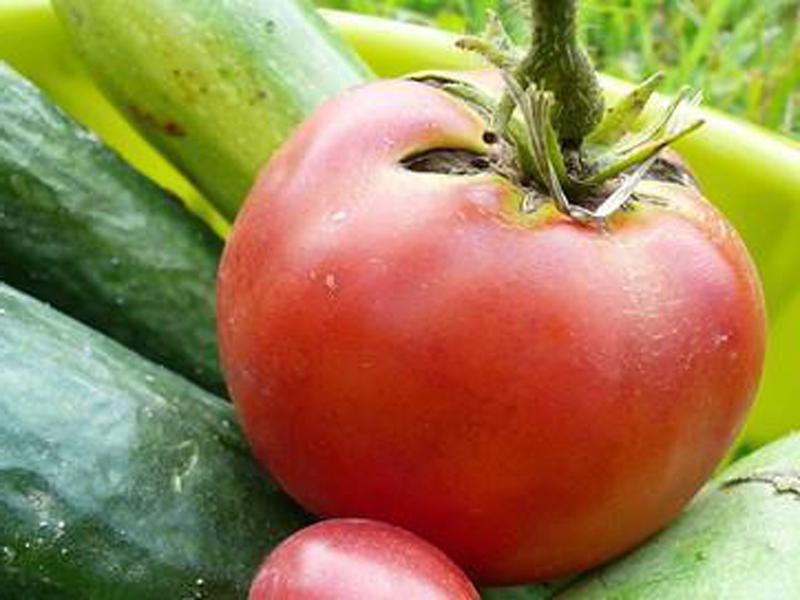Tomato: (220, 77, 768, 587)
